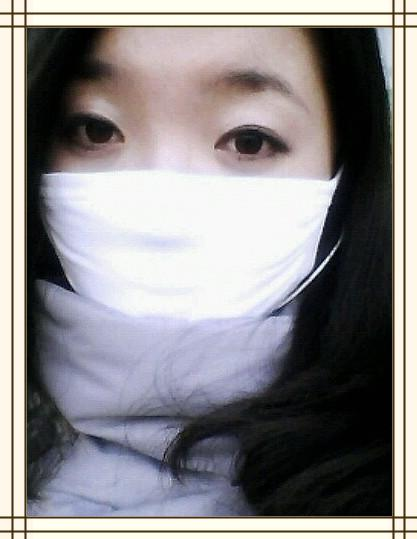OK: (42, 52, 319, 329)
